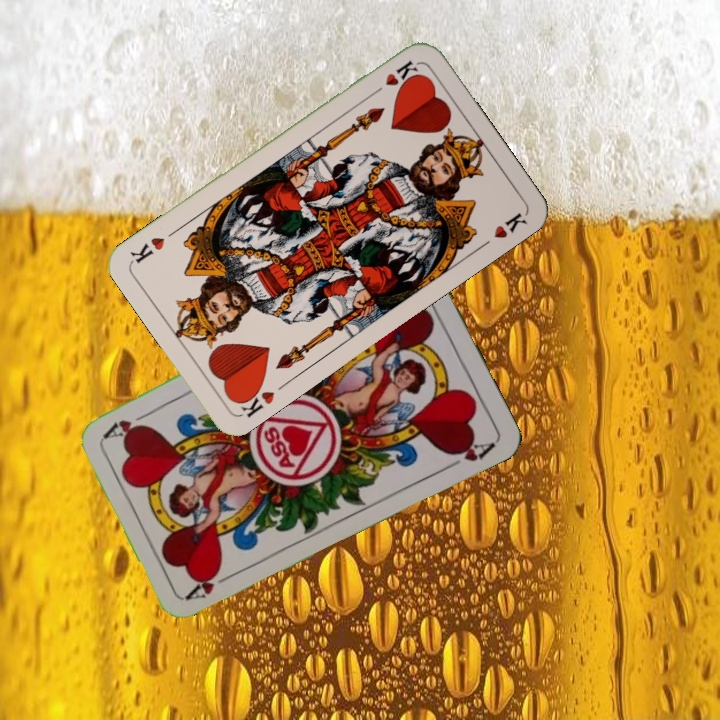HA: (183, 563, 238, 603)
HK: (368, 56, 423, 99), (231, 379, 277, 421)
